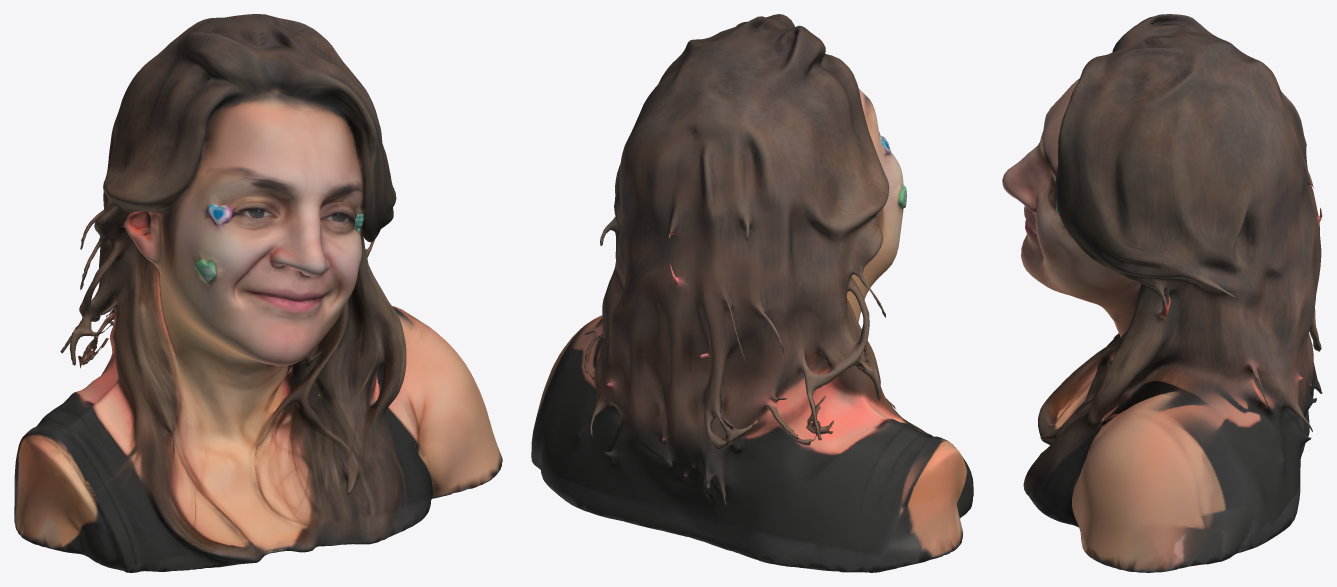
3 renders of one model, left to right at view 1: azimuth 30°, elevation 25°; view 2: azimuth 150°, elevation 25°; view 3: azimuth 270°, elevation 25°, orthographic. The views are drawn at different scales.
Bounding box in the file's own units: 1.97 × 2 × 1.33.
Materials: 1 (1 with a texture image).
